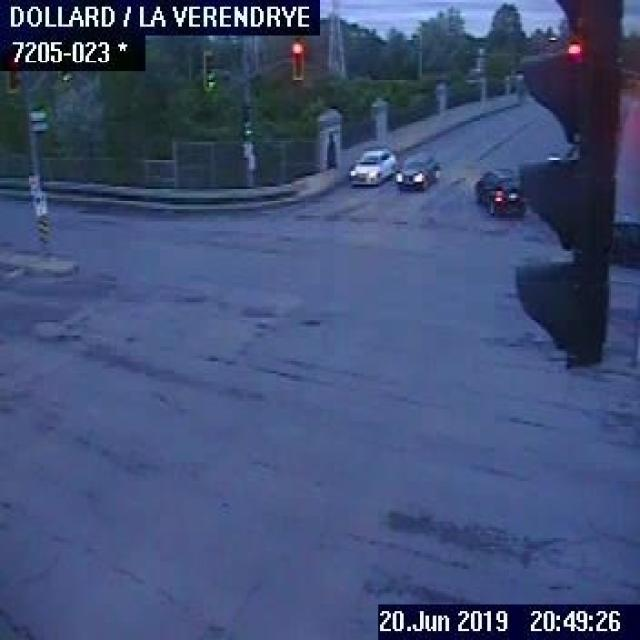vehicle: (471, 166, 527, 218), (345, 144, 394, 188), (394, 148, 442, 190)
